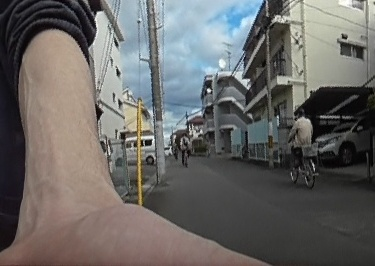person: (288, 109, 314, 171), (178, 130, 189, 162)
